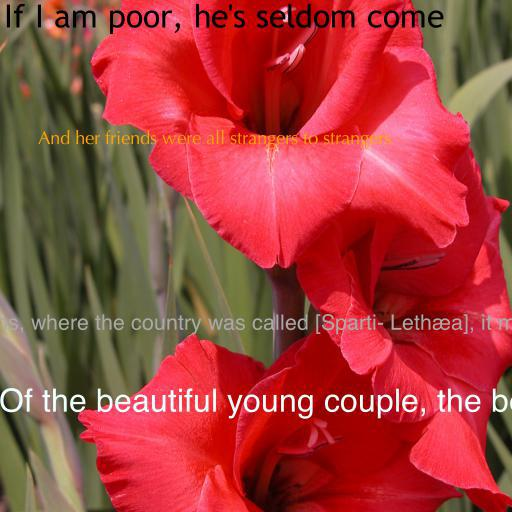Big Caslon: (0, 388, 512, 419), (0, 314, 512, 335)
Optima: (37, 129, 391, 150)
Trebuchet MS: (4, 3, 444, 35)
